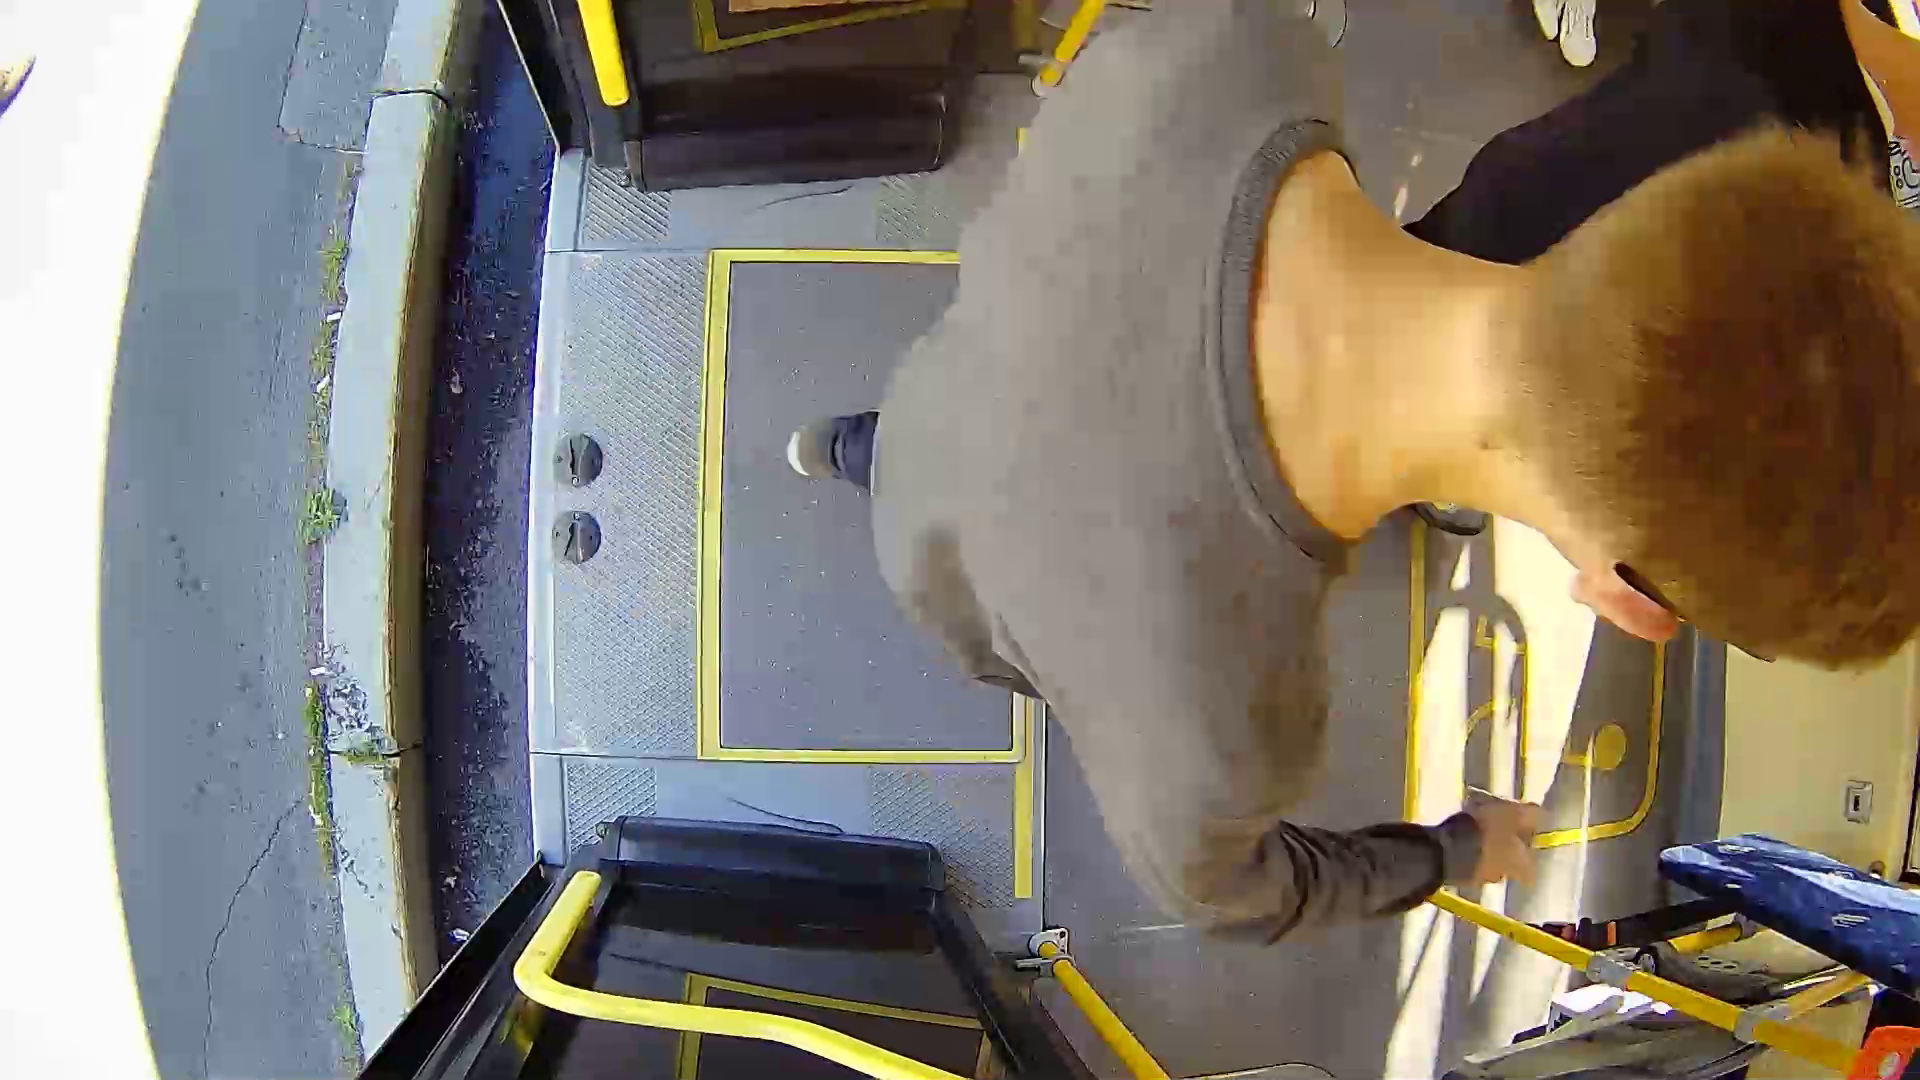person: (833, 44, 1920, 905)
